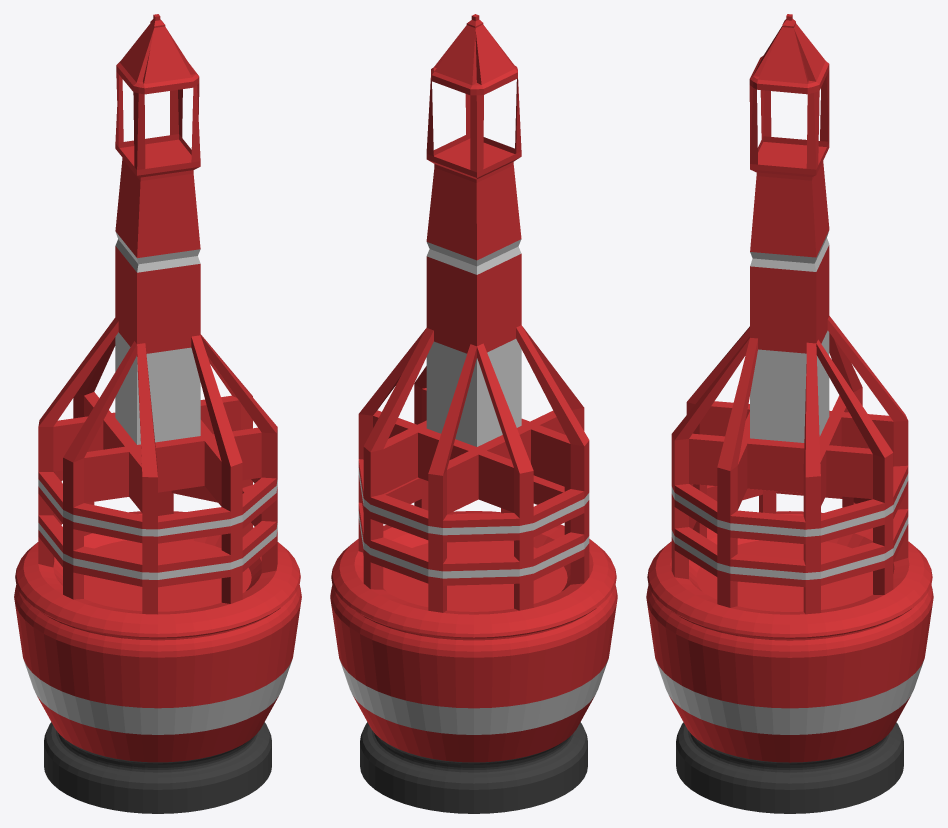
Rendered from BuoyCom.fbx.
The picture shows the model from 3 angles, left to right: view 1: azimuth 30°, elevation 25°; view 2: azimuth 150°, elevation 25°; view 3: azimuth 270°, elevation 25°; orthographic projection.
Parts seen in each view (by area): view 1: Torus; view 2: Torus; view 3: Torus.
Part boxes in pixels (x1=…): Torus: x1=14, y1=14, x2=301, y2=813; Torus: x1=330, y1=14, x2=617, y2=813; Torus: x1=646, y1=14, x2=933, y2=813.
Bounding box in the file's own units: 241 × 693 × 241.
